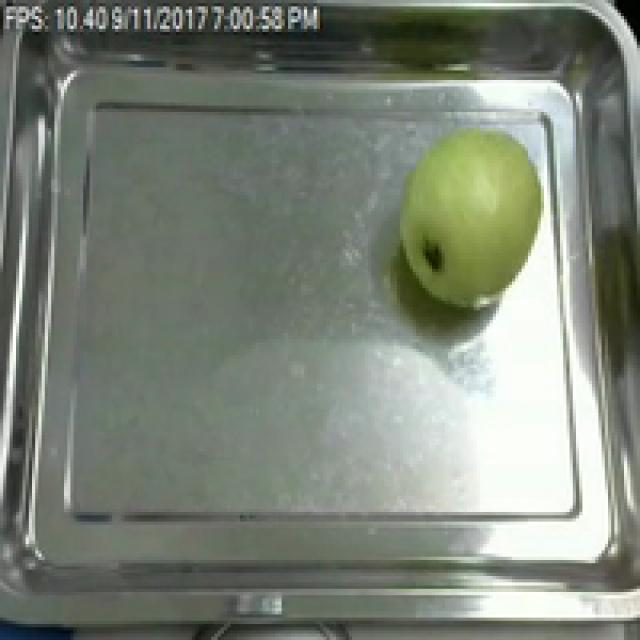Fruit: (387, 115, 557, 320)
